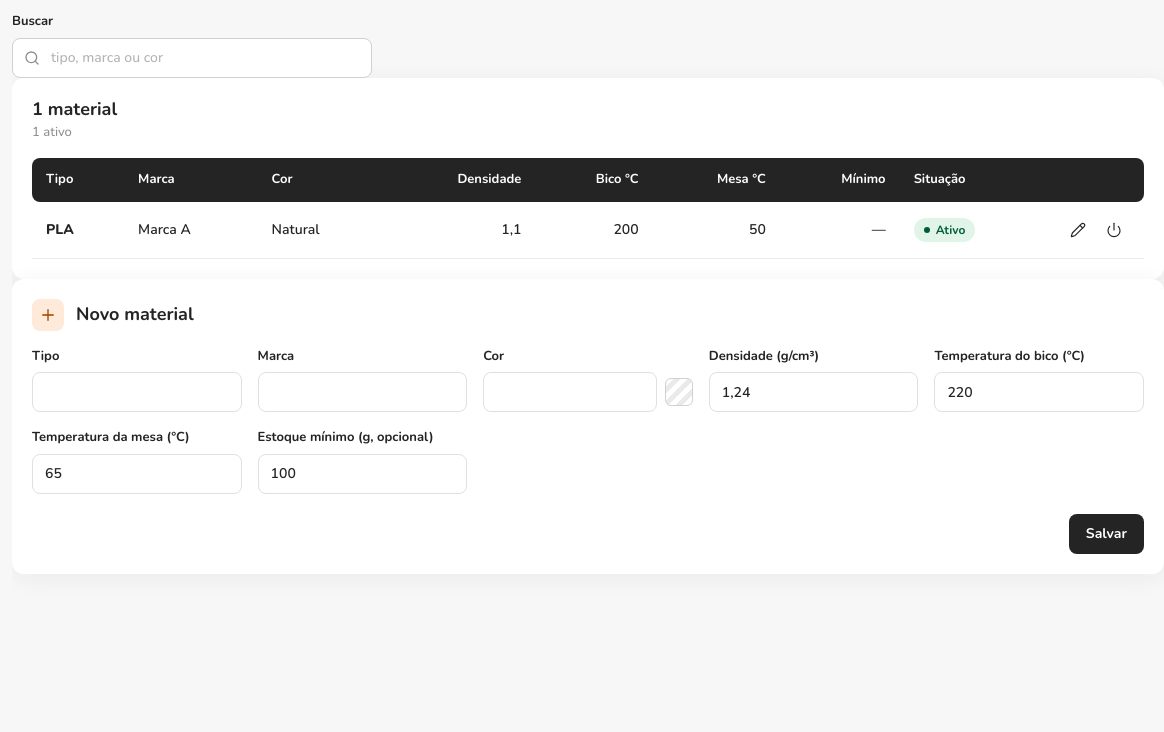
Materials page › defaults, brand suggestions and tone (material-brand-tone) › edit form uses the material values, never the defaults
Check: the text "PLA" is shown, box [46,220,74,239]
Click the button named "Editar". click: (1078,230)
box: [1062,214,1094,246]
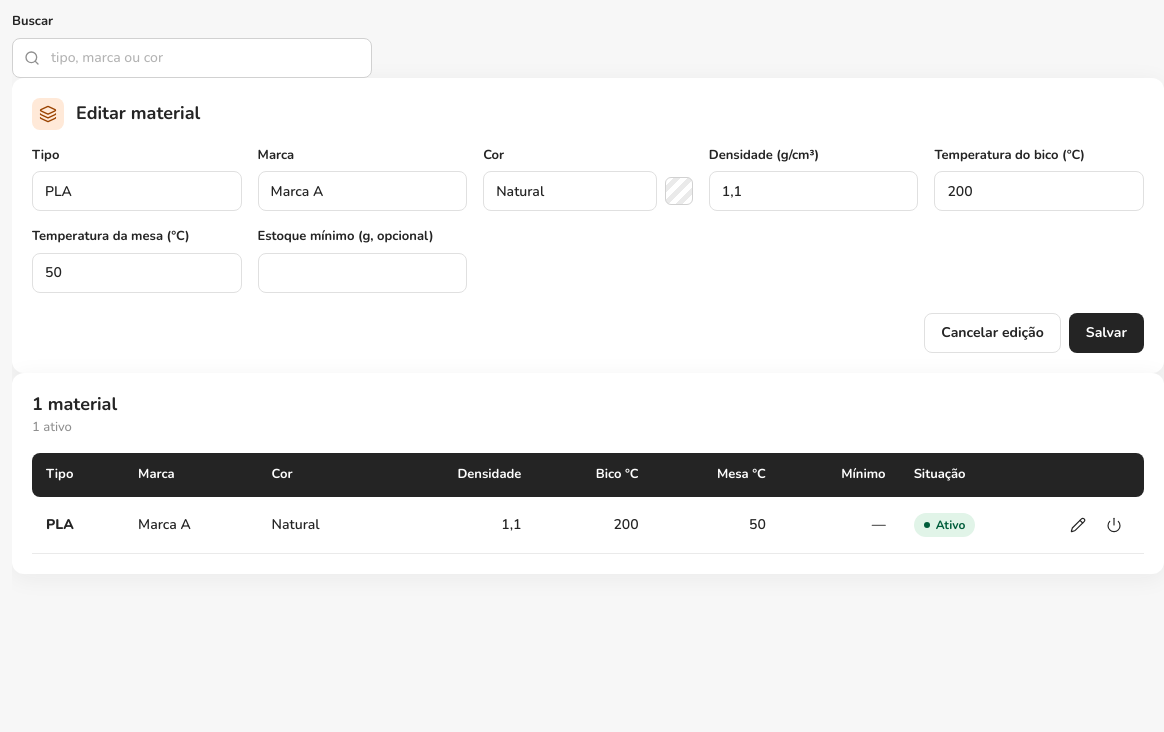
Check: the field labelled "Densidade (g/cm³)" holds "1,1", box [709,171,918,211]
Check: the field labelled "Temperatura do bico (°C)" holds "200", box [934,171,1144,211]
Check: the field labelled "Temperatura da mesa (°C)" holds "50", box [32,252,242,292]
